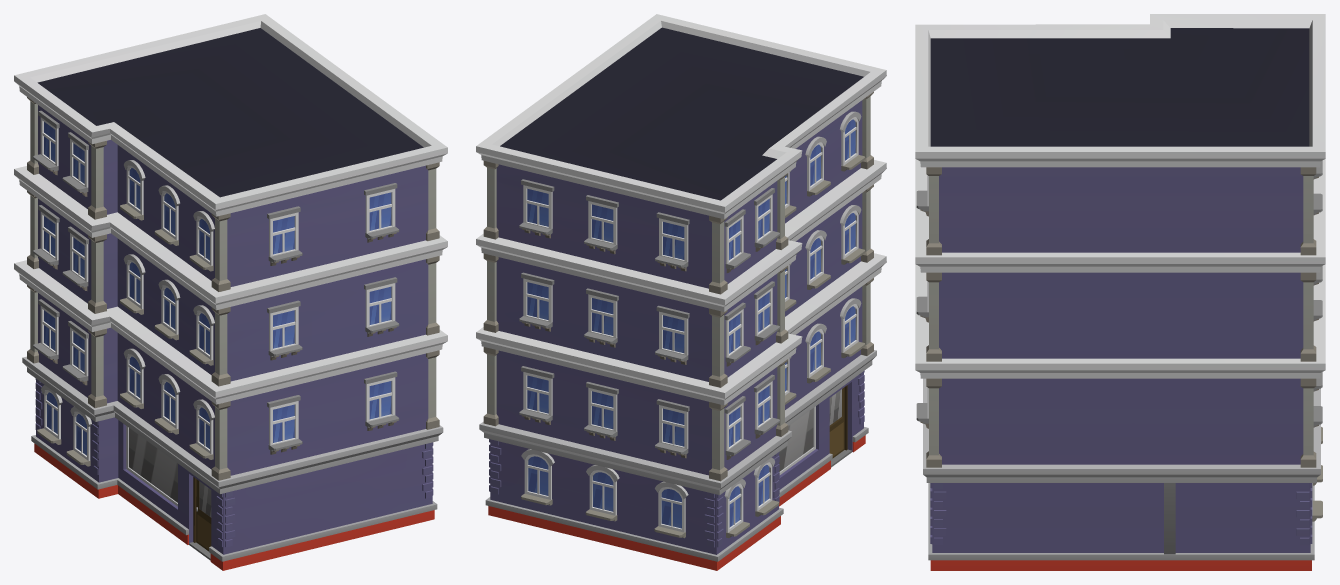
The model's file is Building_1_4_K.glb.
3 views of the same model, side by side, from view 1: azimuth 30°, elevation 25°; view 2: azimuth 150°, elevation 25°; view 3: azimuth 270°, elevation 25° (orthographic). The views are drawn at different scales.
Parts seen in each view (by area): view 1: Building_1_4_K; view 2: Building_1_4_K; view 3: Building_1_4_K.
Part boxes in pixels (x1=…): Building_1_4_K: x1=14, y1=14, x2=447, y2=570; Building_1_4_K: x1=476, y1=14, x2=886, y2=570; Building_1_4_K: x1=915, y1=14, x2=1325, y2=570.
Bounding box in the file's own units: 8.41 × 12.01 × 10.57.
Materials: 3 (3 with a texture image).
